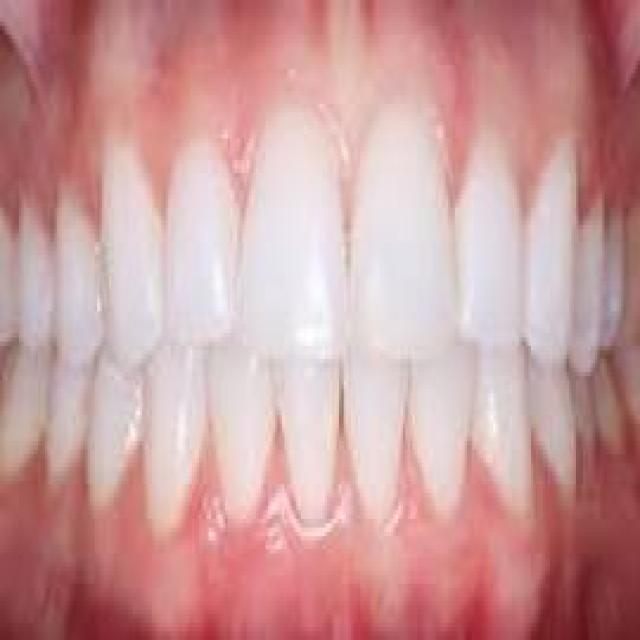tooth: (356, 108, 450, 342), (246, 108, 336, 337), (457, 138, 524, 350), (97, 156, 159, 337), (170, 152, 234, 324), (213, 359, 275, 519), (147, 354, 206, 514), (348, 359, 403, 523), (528, 173, 578, 350), (280, 372, 336, 519), (476, 364, 531, 511), (420, 363, 467, 506), (536, 376, 580, 480), (100, 359, 138, 476), (54, 216, 92, 329), (7, 359, 43, 458), (581, 195, 602, 359), (52, 372, 85, 458), (612, 220, 638, 328), (22, 220, 48, 324), (583, 376, 607, 458), (614, 381, 640, 436)
